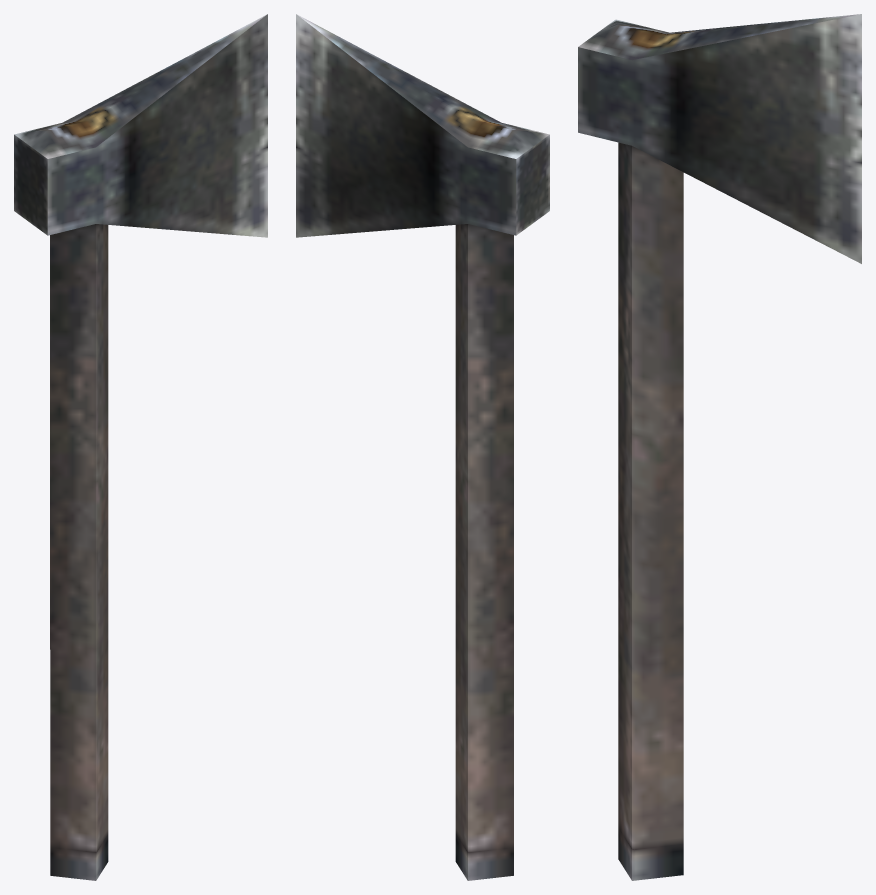
Rendered from m_topor1.glb.
3 views of the same model, side by side, from view 1: azimuth 30°, elevation 25°; view 2: azimuth 150°, elevation 25°; view 3: azimuth 330°, elevation 25° (orthographic). The views are drawn at different scales.
Visible parts, largest first — view 1: m_topor1; view 2: m_topor1; view 3: m_topor1.
Boxes of the visible parts, bbox=[...] form: m_topor1: bbox=[14, 14, 267, 880]; m_topor1: bbox=[296, 14, 549, 880]; m_topor1: bbox=[578, 14, 861, 880].
Size of the model in its own units: 0.2844 by 0.9277 by 0.0701.
Materials: 1 (1 with a texture image).
